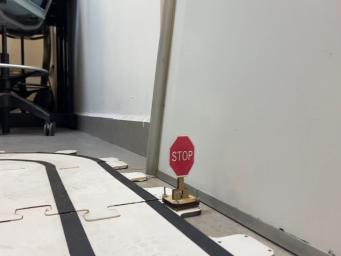stop: (163, 136, 199, 210), (163, 136, 199, 210), (163, 136, 199, 210), (163, 136, 199, 210), (163, 136, 199, 210), (163, 136, 199, 210)
street: (0, 153, 231, 255), (0, 153, 231, 255), (0, 153, 231, 255), (0, 153, 231, 255), (0, 153, 231, 255), (0, 153, 231, 255)
